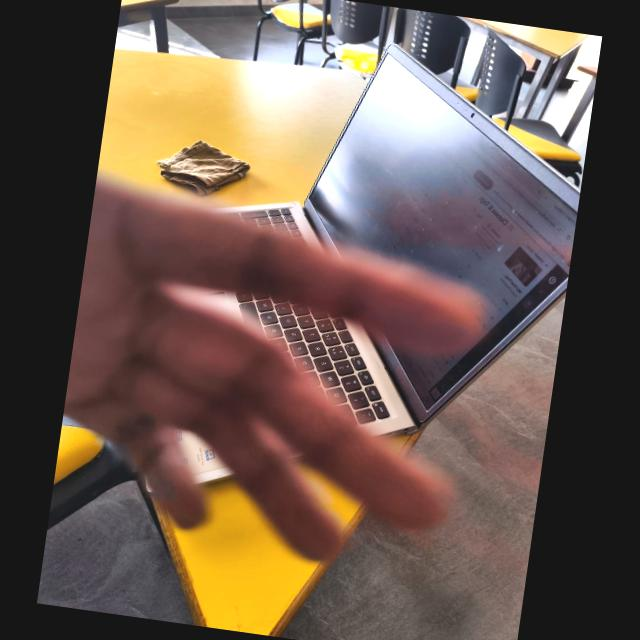laptop: (282, 22, 600, 280)
